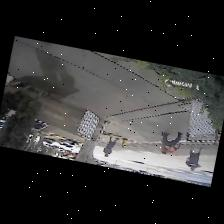person: (162, 131, 183, 151), (186, 147, 202, 170), (104, 136, 118, 156), (161, 135, 173, 153)
